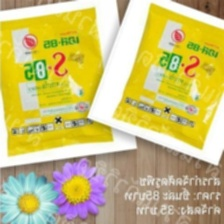insecticide: (83, 0, 223, 170), (0, 0, 140, 169)
